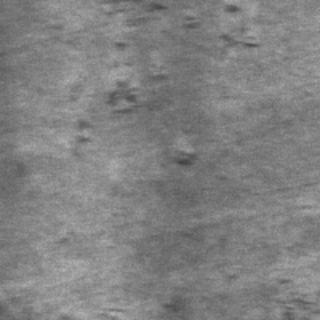rolled pit: (50, 0, 258, 54), (74, 74, 196, 162), (264, 242, 316, 314)
